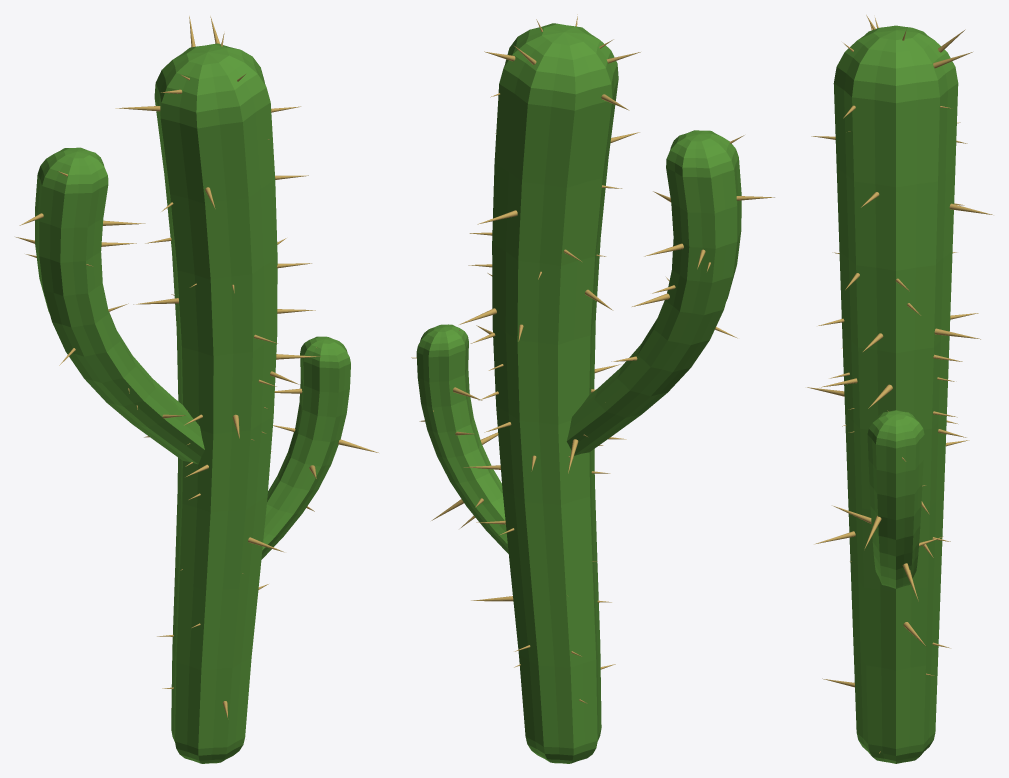
Rendered from cactusnew.fbx.
The picture shows the model from 3 angles, left to right: view 1: azimuth 30°, elevation 25°; view 2: azimuth 150°, elevation 25°; view 3: azimuth 270°, elevation 25°; orthographic projection. The views are drawn at different scales.
Visible parts, largest first — view 1: Cylinder.001; view 2: Cylinder.001; view 3: Cylinder.001.
Part boxes in pixels (box(x1,y1,x2,y2)): Cylinder.001: box(16, 16, 378, 763); Cylinder.001: box(411, 14, 774, 763); Cylinder.001: box(807, 15, 992, 763).
Size of the model in its own units: 680 by 1311 by 305.
